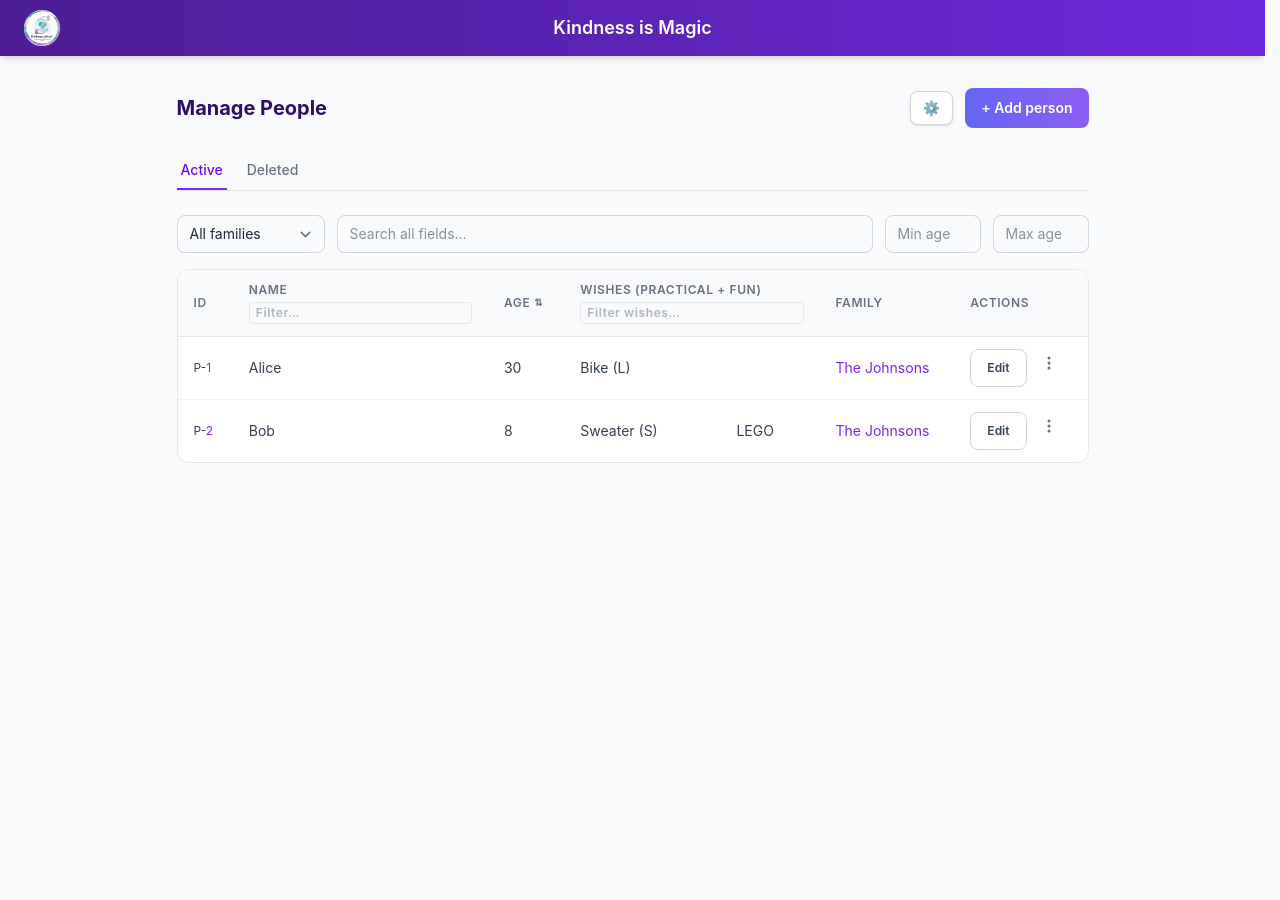
Scenario: AdminPeople › restore person succeeds and shows toast
Expected: the text "Alice" is shown, [233,336,488,400]
Click the tab "Deleted".
click(272, 171)  # box [243,152,302,190]
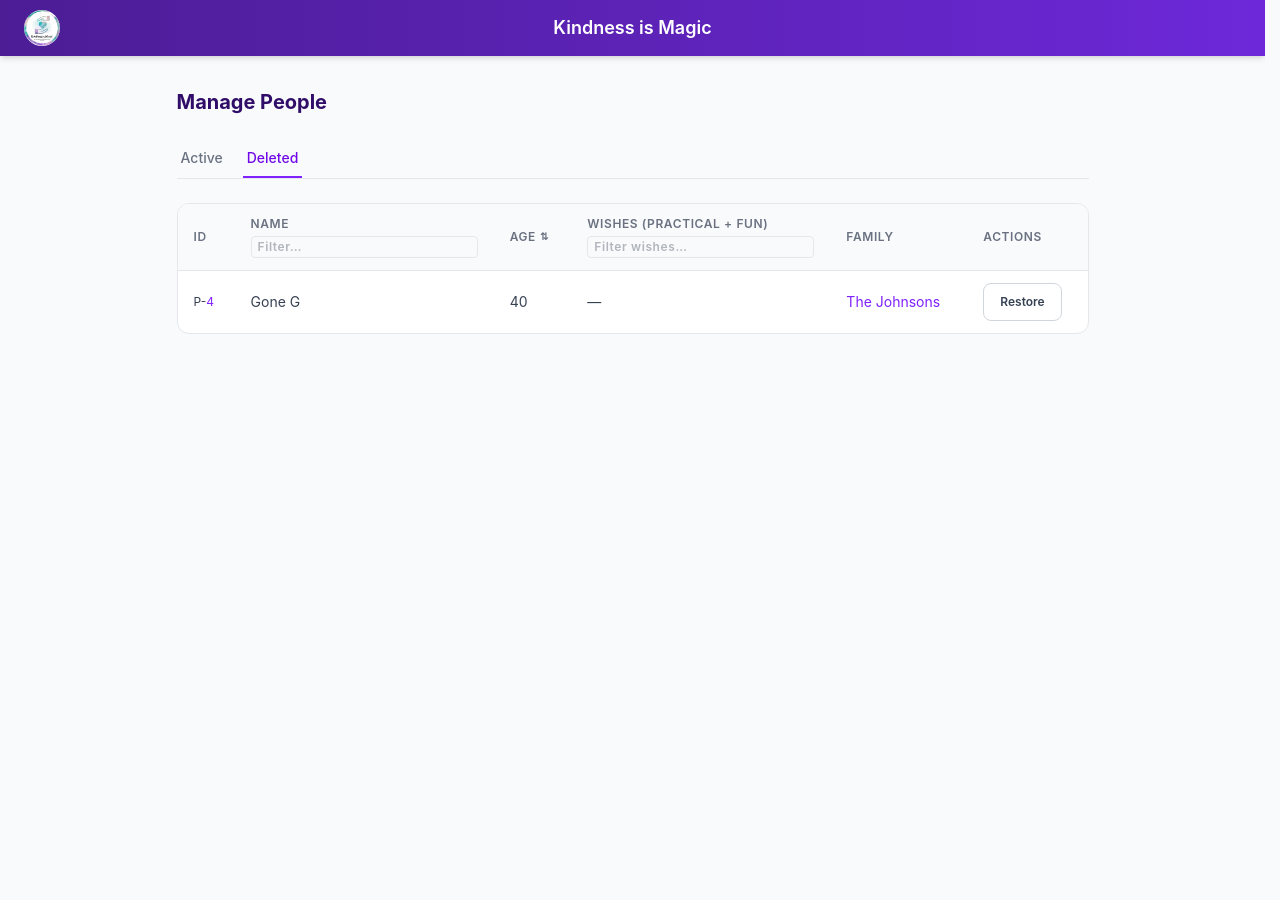
Result: the text "Gone G" is shown at [235,270,494,333]
Click the button "Restore".
click(1022, 302)  # box [983,283,1062,321]
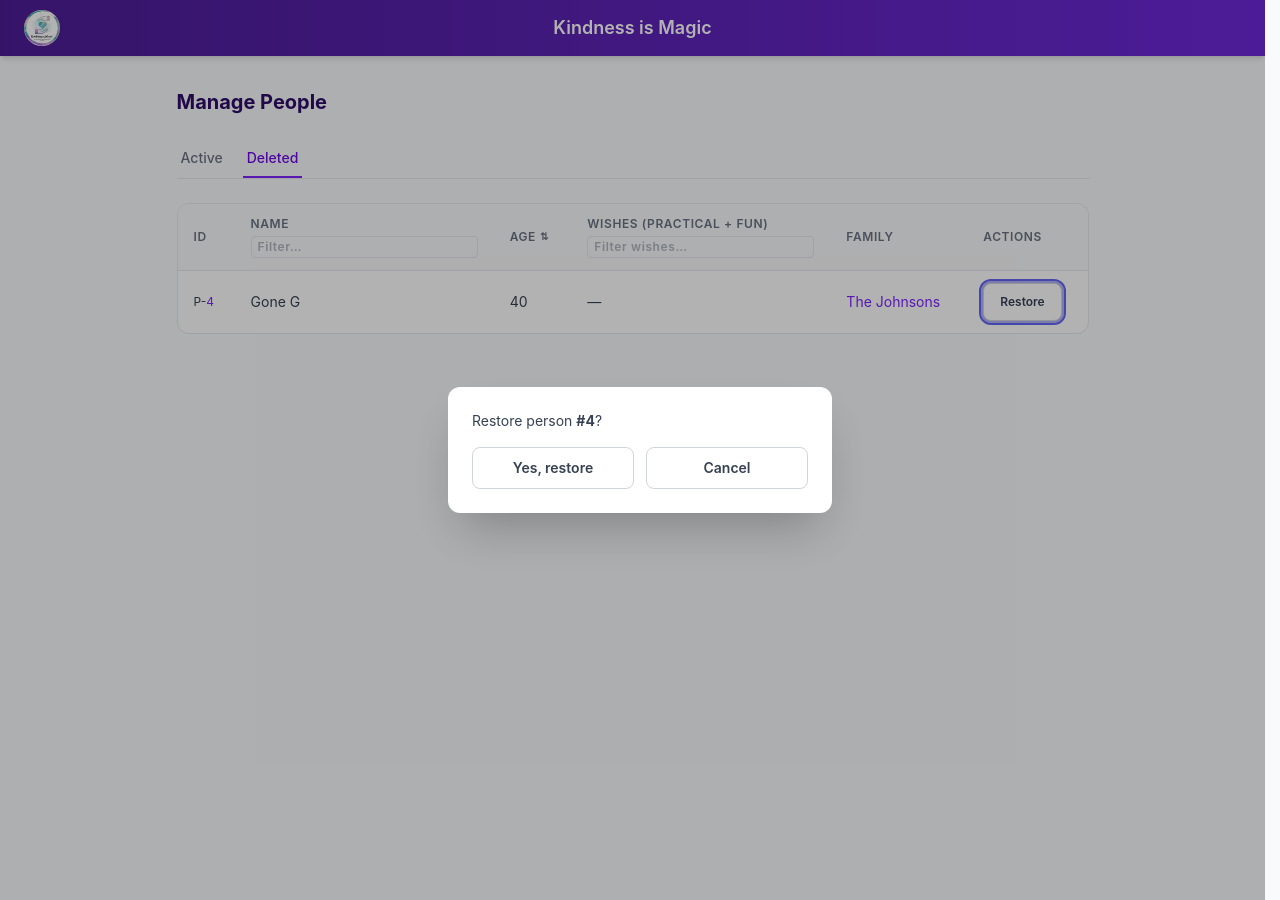
Result: the text "Restore person #4?" is shown at [472,412,602,429]
Click the button "Yes, restore".
click(553, 468)  # box [472,447,634,489]
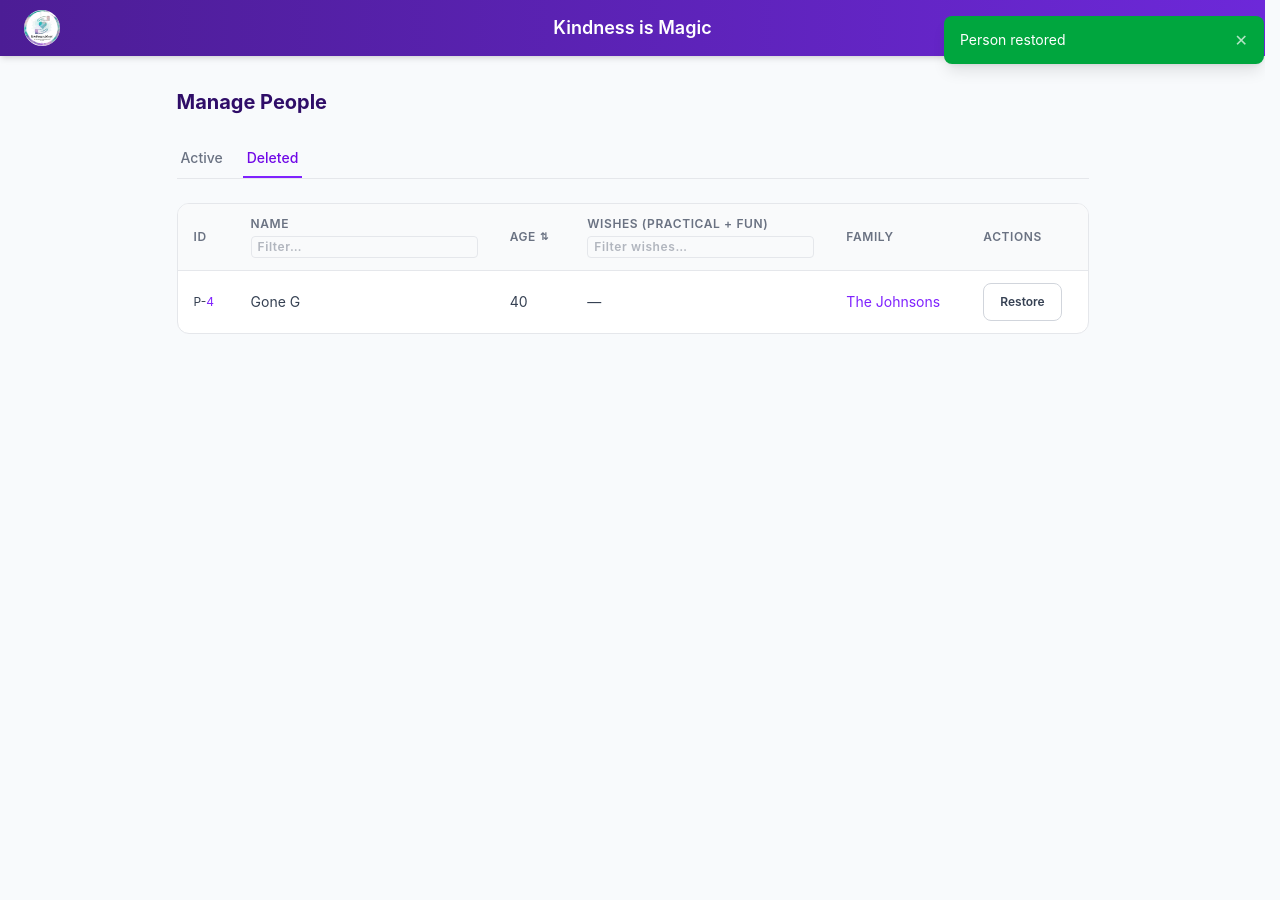
Result: the text "Person restored" is shown at [960,31,1066,48]
